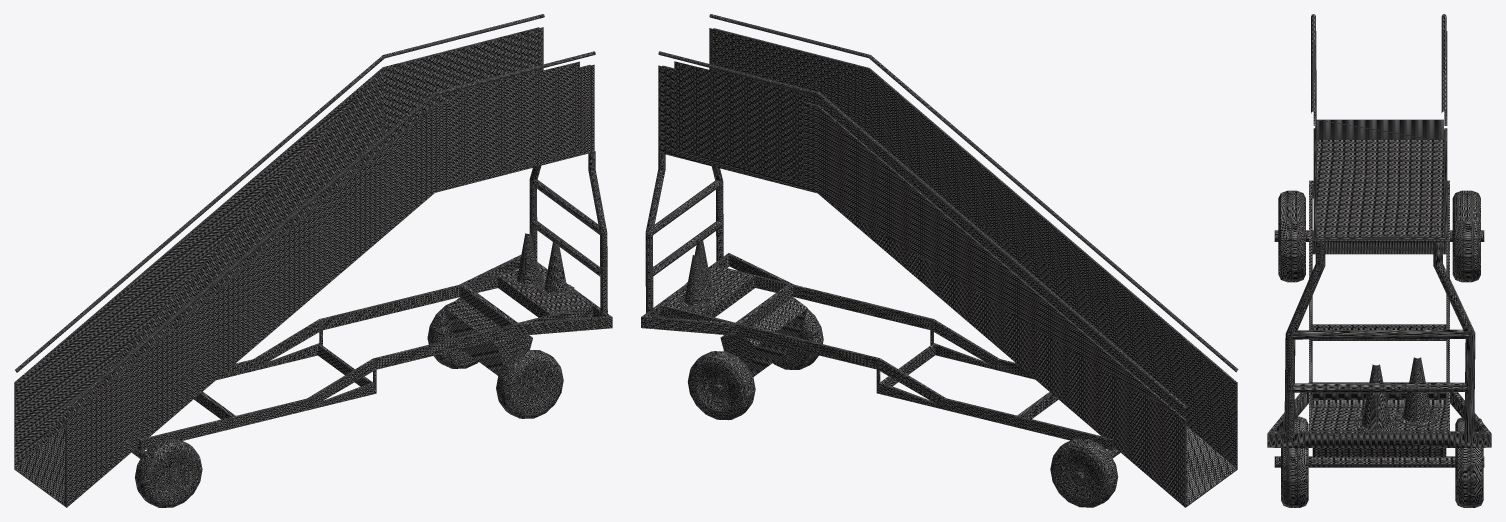
The model's file is EscadaTAM.gltf.
3 views of the same model, side by side, from view 1: azimuth 30°, elevation 25°; view 2: azimuth 150°, elevation 25°; view 3: azimuth 270°, elevation 25° (orthographic). The views are drawn at different scales.
Visible parts, largest first — view 1: node1; view 2: node1; view 3: node1.
Boxes of the visible parts, bbox=[...] form: node1: bbox=[14, 14, 612, 507]; node1: bbox=[641, 14, 1238, 507]; node1: bbox=[1267, 14, 1491, 507].
Size of the model in its own units: 6.37 by 3.92 by 1.82.
